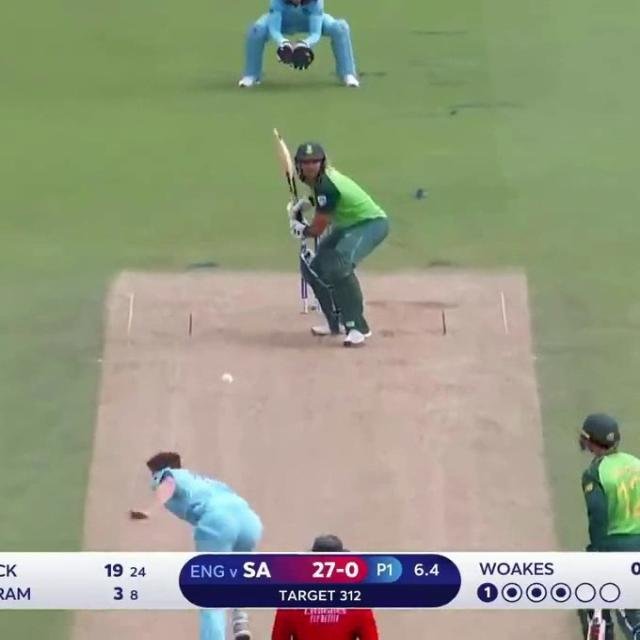bat: (273, 130, 299, 203), (590, 618, 606, 640)
